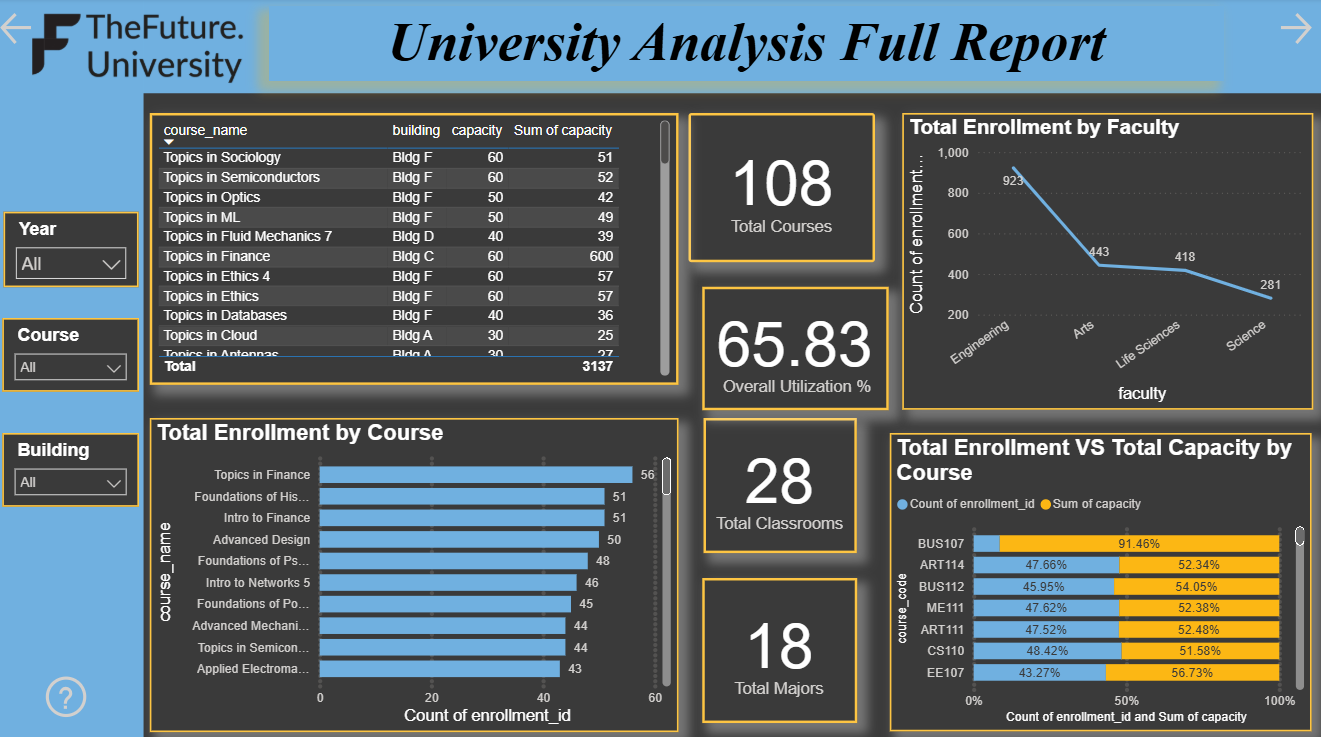

The page's visual inventory and layout, read from the dashboard file:
{"tool":"powerbi","page":{"name":"Course & Capacity ","canvas":[1280,720],"ordinal":1},"visuals":[{"type":"card","fields":{"Values":["Count(Dim_courses.course_id)"]},"box":[668.3,111.1,179.8,144.1],"z":0},{"type":"card","fields":{"Values":["CountNonNull(Dim_Classrooms.classroom_id)"]},"box":[683.4,404.8,148.2,130.4],"z":1000},{"type":"card","fields":{"Values":["DAX Measures.Utilization"]},"box":[682,278.6,179.8,119.4],"z":2000},{"type":"shape","box":[0,0,1280.3,91.9],"z":2500,"group":"g1"},{"type":"shape","box":[0,2.7,142.7,717.7],"z":3000,"group":"g1"},{"type":"card","fields":{"Values":["Count(Dim_majors.major_id)"]},"box":[682,559.9,149.6,140],"z":3000},{"type":"clusteredBarChart","title":"Total Enrollment by Course","fields":{"Category":["Dim_courses.course_name"],"Y":["Count(Fact_Enrollments.enrollment_id)"]},"box":[148.2,404.8,510.5,303.3],"z":4000},{"type":"lineChart","title":"Total  Enrollment by Faculty","fields":{"Category":["Dim_Departments.faculty"],"Y":["CountNonNull(Fact_Enrollments.enrollment_id)"]},"box":[874.1,111.1,396.6,286.8],"z":5000},{"type":"group","id":"g1","title":"Group 1","box":[0,0,1280.3,720.4],"z":6000},{"type":"slicer","fields":{"Values":["Dim_Students.start_year"]},"box":[5.5,419.9,131.7,71.4],"z":7000},{"type":"textbox","box":[263.5,6.9,922.1,72.7],"z":8000},{"type":"slicer","fields":{"Values":["Dim_Departments.name"]},"box":[5.5,308.7,131.7,71.4],"z":9000},{"type":"image","box":[20.6,2.7,242.9,91.9],"z":10000},{"type":"slicer","fields":{"Values":["Dim_Students.start_year"]},"box":[6.9,205.8,130.4,72.7],"z":10001,"group":"g1"},{"type":"hundredPercentStackedBarChart","title":"Total Enrollment VS Total Capacity by Course","fields":{"Category":["Dim_courses.course_code"],"Y":["CountNonNull(Fact_Enrollments.enrollment_id)","Sum(Dim_Course_Offerings.capacity)"]},"box":[863.1,419.9,407.5,288.2],"z":11000},{"type":"tableEx","fields":{"Values":["Dim_courses.course_name","Dim_Classrooms.building","Dim_Classrooms.capacity","Sum(Dim_Course_Offerings.capacity)"]},"box":[148.2,111.1,510.5,262.1],"z":12000},{"type":"actionButton","box":[1233.6,9.6,46.7,39.8],"z":13000},{"type":"actionButton","box":[42.5,649.1,57.6,50.8],"z":14000},{"type":"actionButton","box":[0,9.6,42.5,39.8],"z":15000}]}

Visuals, with their boxes in screenshot pixels (x1, y1, x2, y2), scaled from the page's 1280x720 canvas onto the 1321x737 screenshot:
card - Count(Dim_courses.course_id): pyautogui.locateOnScreen(690, 114, 875, 261)
card - CountNonNull(Dim_Classrooms.classroom_id): pyautogui.locateOnScreen(705, 414, 858, 548)
card - DAX Measures.Utilization: pyautogui.locateOnScreen(704, 285, 889, 407)
shape: pyautogui.locateOnScreen(0, 0, 1320, 94)
shape: pyautogui.locateOnScreen(0, 3, 147, 736)
card - Count(Dim_majors.major_id): pyautogui.locateOnScreen(704, 573, 858, 716)
"Total Enrollment by Course" clusteredBarChart: pyautogui.locateOnScreen(153, 414, 680, 725)
"Total  Enrollment by Faculty" lineChart: pyautogui.locateOnScreen(902, 114, 1311, 407)
"Group 1" group: pyautogui.locateOnScreen(0, 0, 1320, 736)
slicer - Dim_Students.start_year: pyautogui.locateOnScreen(6, 430, 142, 503)
textbox: pyautogui.locateOnScreen(272, 7, 1224, 81)
slicer - Dim_Departments.name: pyautogui.locateOnScreen(6, 316, 142, 389)
image: pyautogui.locateOnScreen(21, 3, 272, 97)
slicer - Dim_Students.start_year: pyautogui.locateOnScreen(7, 211, 142, 285)
"Total Enrollment VS Total Capacity by Course" hundredPercentStackedBarChart: pyautogui.locateOnScreen(891, 430, 1311, 725)
tableEx - Dim_courses.course_name x Dim_Classrooms.building: pyautogui.locateOnScreen(153, 114, 680, 382)
actionButton: pyautogui.locateOnScreen(1273, 10, 1320, 51)
actionButton: pyautogui.locateOnScreen(44, 664, 103, 716)
actionButton: pyautogui.locateOnScreen(0, 10, 44, 51)
